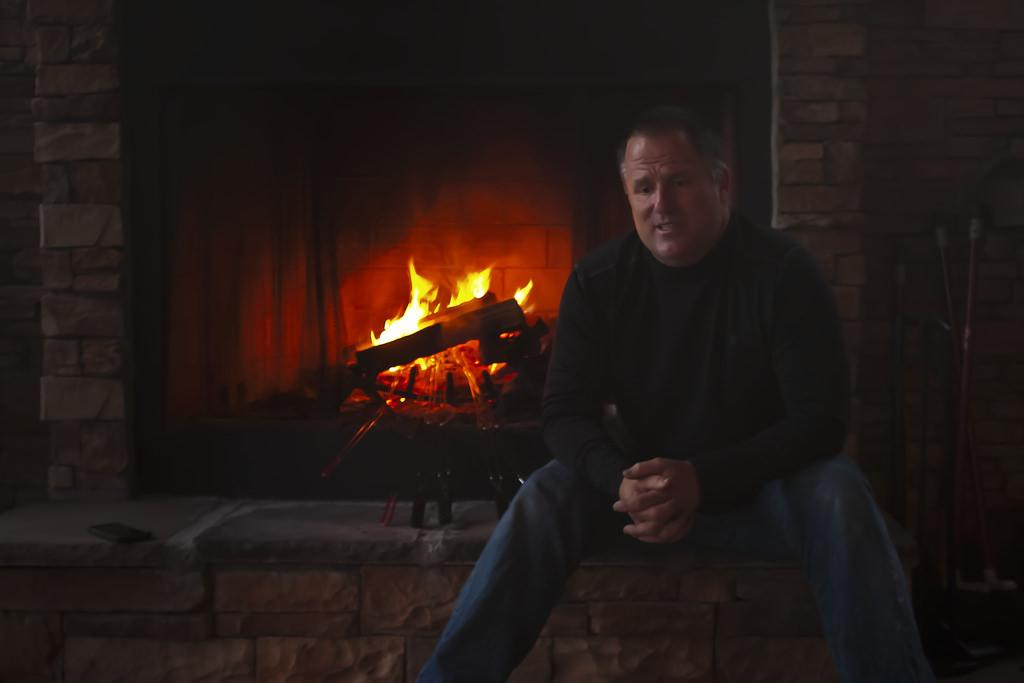fire: (405, 267, 437, 305), (383, 308, 422, 338), (458, 275, 492, 300)
